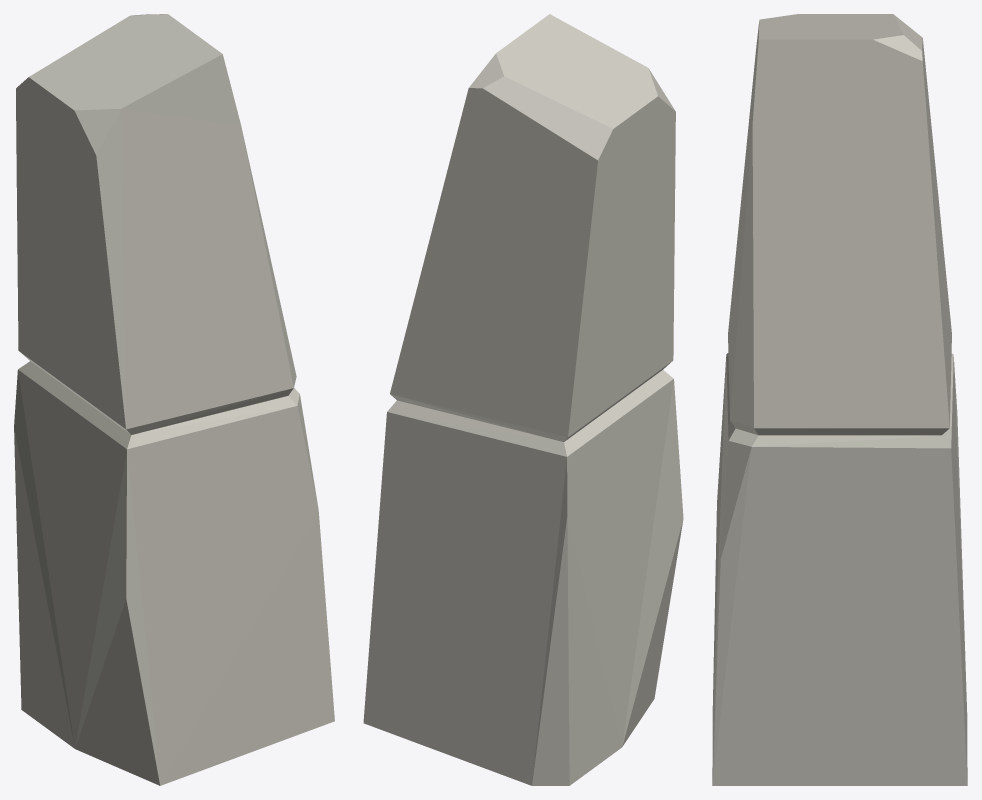
Rendered from Rock_Square_l_11.fbx.
The picture shows the model from 3 angles, left to right: view 1: azimuth 30°, elevation 25°; view 2: azimuth 150°, elevation 25°; view 3: azimuth 270°, elevation 25°; orthographic projection. The views are drawn at different scales.
Parts seen in each view (by area): view 1: Rock_Square_l_11; view 2: Rock_Square_l_11; view 3: Rock_Square_l_11.
Boxes of the visible parts, <box> form: Rock_Square_l_11: <box>14,14,334,785</box>; Rock_Square_l_11: <box>363,14,683,785</box>; Rock_Square_l_11: <box>712,14,967,785</box>.
Bounding box in the file's own units: 1.35 × 4.09 × 1.31.
